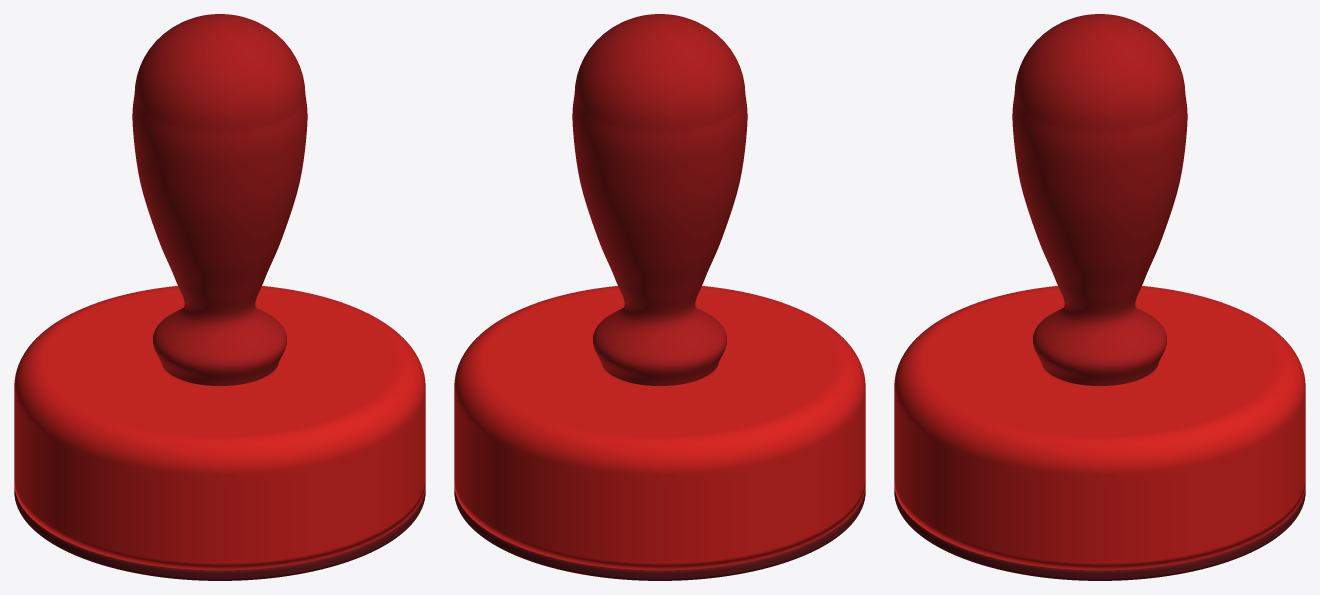
Rendered from stamp_round_smooth.glb.
3 renders of one model, left to right at view 1: azimuth 30°, elevation 25°; view 2: azimuth 150°, elevation 25°; view 3: azimuth 270°, elevation 25°, orthographic.
Parts seen in each view (by area): view 1: Body, Handle, Pad; view 2: Body, Handle, Pad; view 3: Body, Handle, Pad.
Part boxes in pixels (x1,y1,x2,y2): Body: (14, 286, 425, 570); Handle: (132, 14, 307, 385); Pad: (14, 488, 425, 580); Body: (454, 286, 865, 570); Handle: (572, 14, 747, 385); Pad: (454, 488, 865, 580); Body: (894, 286, 1305, 570); Handle: (1012, 14, 1187, 385); Pad: (894, 488, 1305, 580).
Size of the model in its own units: 0.8 by 1.01 by 0.8.
